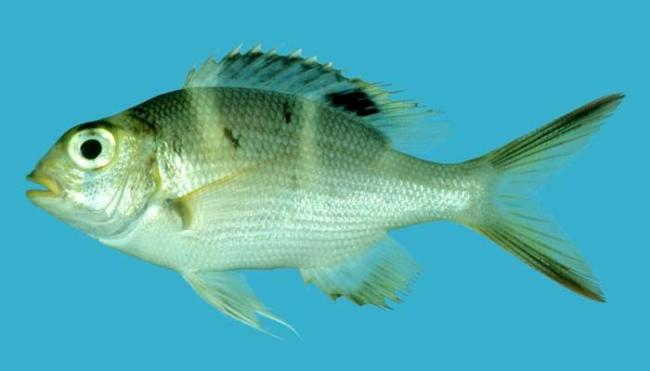fish: (26, 42, 626, 339)
